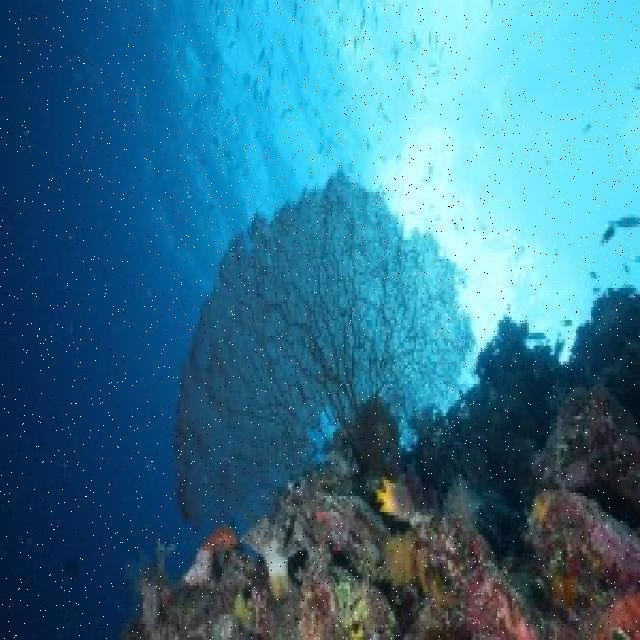Bleached: (180, 171, 466, 478)
Healthy: (172, 510, 640, 640), (499, 322, 640, 518)
